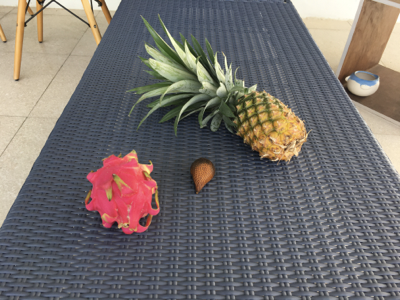dragon fruit: (85, 150, 161, 235)
pineapple: (128, 12, 307, 162)
snake fruit: (191, 159, 215, 196)
